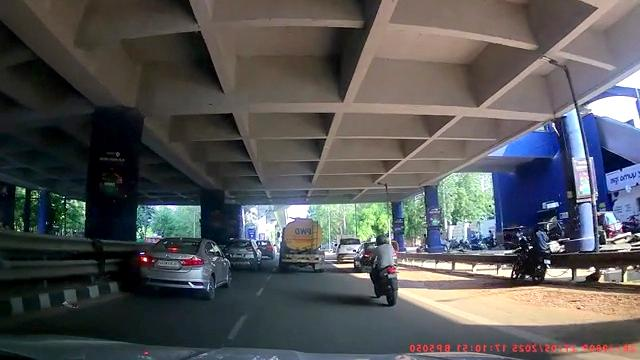motorcycle_with_helmet: (368, 233, 401, 306)
